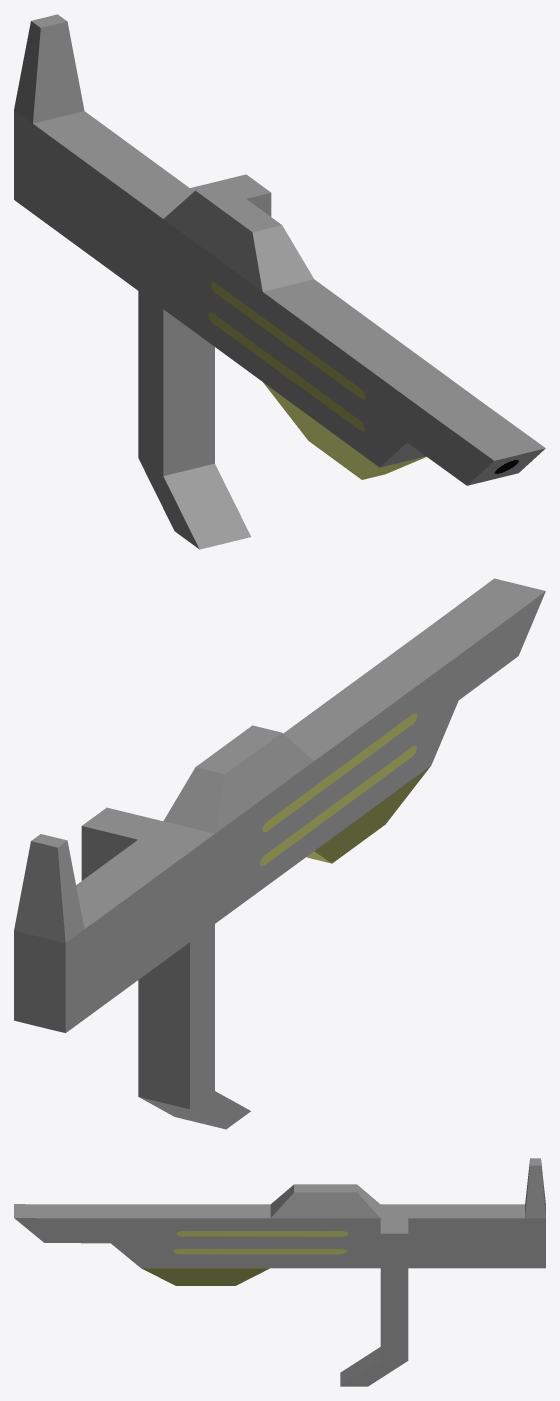
Rendered from Gun.obj.
3 views of the same model, one above another, from view 1: azimuth 30°, elevation 25°; view 2: azimuth 150°, elevation 25°; view 3: azimuth 270°, elevation 25° (orthographic). The views are drawn at different scales.
Visible parts, largest first — view 1: Cube; view 2: Cube; view 3: Cube.
Boxes of the visible parts, box(x1,y1,x2,y2) form: Cube: box(14, 14, 545, 549); Cube: box(14, 578, 545, 1129); Cube: box(14, 1158, 545, 1386).
Size of the model in its own units: 0.3467 by 1.2 by 2.67.
Materials: 1 (1 with a texture image).
